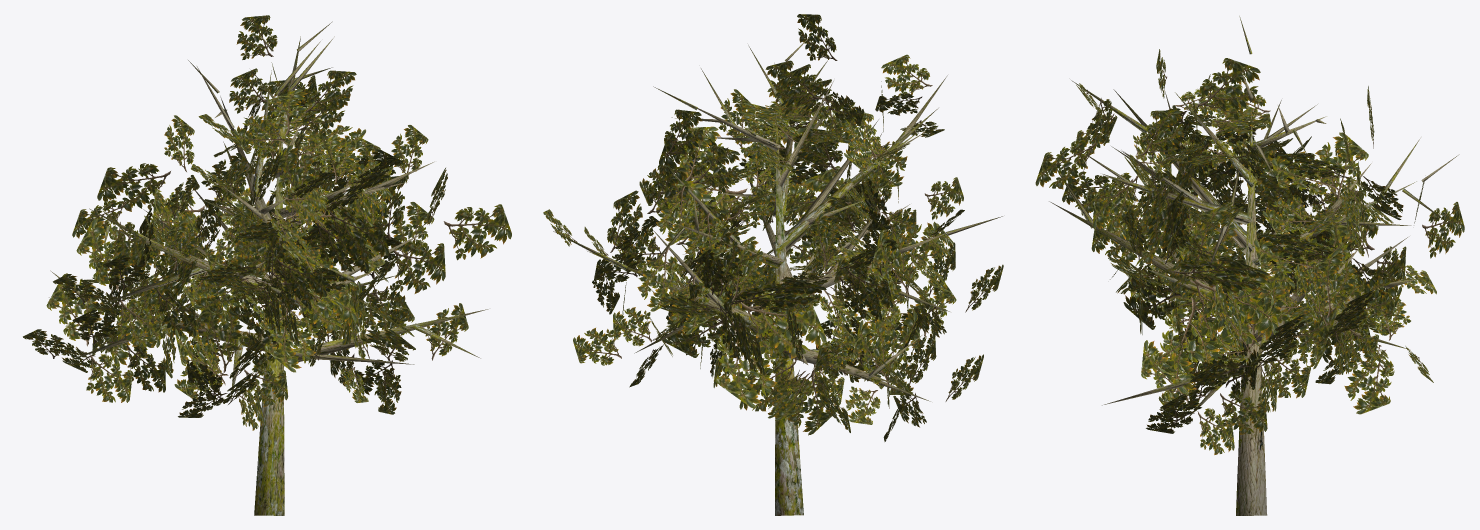
File: BigtreeLOD3.fbx
3 views of the same model, side by side, from view 1: azimuth 30°, elevation 25°; view 2: azimuth 150°, elevation 25°; view 3: azimuth 270°, elevation 25° (orthographic). The views are drawn at different scales.
Visible parts, largest first — view 1: BigtreeLOD3; view 2: BigtreeLOD3; view 3: BigtreeLOD3.
Boxes of the visible parts, x1,y1,x2,y2 form: BigtreeLOD3: [23, 15, 511, 515]; BigtreeLOD3: [543, 14, 1003, 515]; BigtreeLOD3: [1035, 16, 1464, 515].
Bounding box in the file's own units: 1136 × 1244 × 995.
2 materials, 2 textured.
